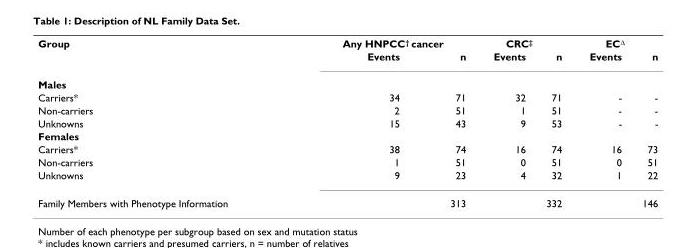table: (37, 36, 657, 208)
table column: (37, 36, 284, 208), (284, 36, 424, 208), (478, 36, 535, 208), (574, 36, 631, 208), (424, 36, 478, 208), (535, 36, 574, 208), (631, 36, 657, 208)
table projected row header: (37, 70, 657, 90), (37, 129, 657, 142)
table row: (37, 49, 657, 70), (37, 70, 657, 90), (37, 168, 657, 188), (37, 188, 657, 208), (37, 36, 657, 49), (37, 90, 657, 103), (37, 103, 657, 116), (37, 116, 657, 129), (37, 129, 657, 142), (37, 142, 657, 155), (37, 155, 657, 168)
table spanning cell: (37, 36, 284, 70), (284, 36, 478, 49), (478, 36, 574, 49), (574, 36, 657, 49)
